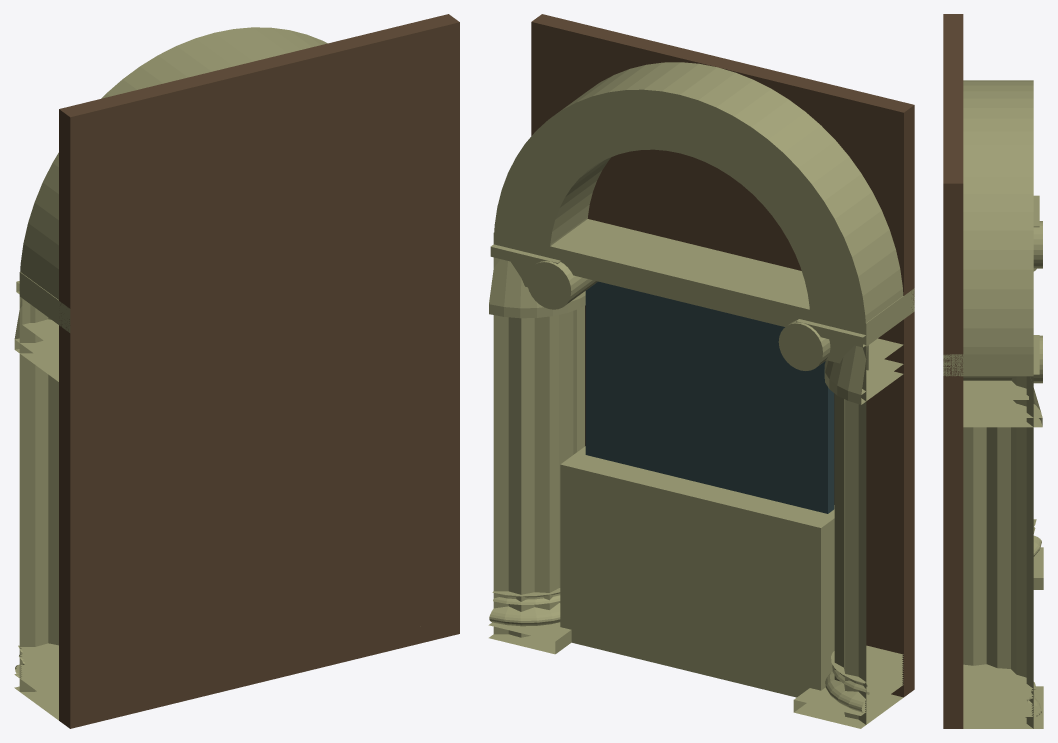
Rendered from ag_arcade_bay_2m.glb.
3 renders of one model, left to right at view 1: azimuth 30°, elevation 25°; view 2: azimuth 150°, elevation 25°; view 3: azimuth 270°, elevation 25°, orthographic. The views are drawn at different scales.
Parts seen in each view (by area): view 1: AGArcadeBay2m; view 2: AGArcadeBay2m; view 3: AGArcadeBay2m.
Part boxes in pixels (<box>): AGArcadeBay2m: <box>14,14,459,728</box>; AGArcadeBay2m: <box>488,14,914,728</box>; AGArcadeBay2m: <box>943,14,1043,728</box>.
Size of the model in its own units: 2 by 3 by 0.5.
